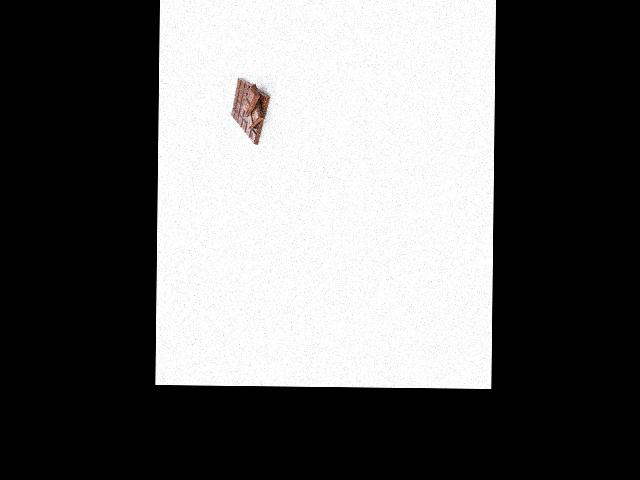chocolate: (227, 76, 273, 145)
